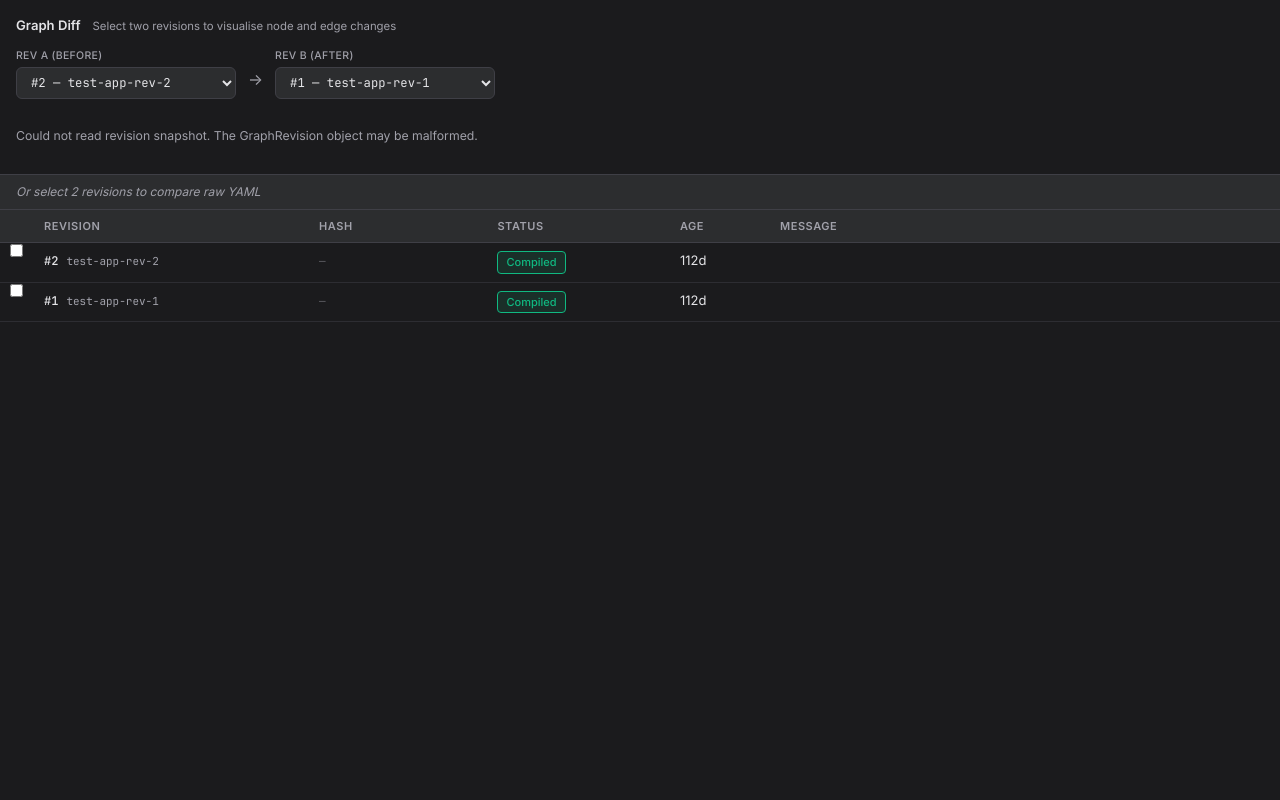
Test: RevisionYamlDiff navigate-by-change (spec issue-680) › O2+O3+O4: next click advances counter, prev retreats
expect the table with test id "revisions-table" is shown: met, box x1=0 y1=210 x2=1279 y2=322
Click the checkbox named "Select revision test-app-rev-2 for comparison": click(16, 251) x1=10 y1=244 x2=22 y2=257
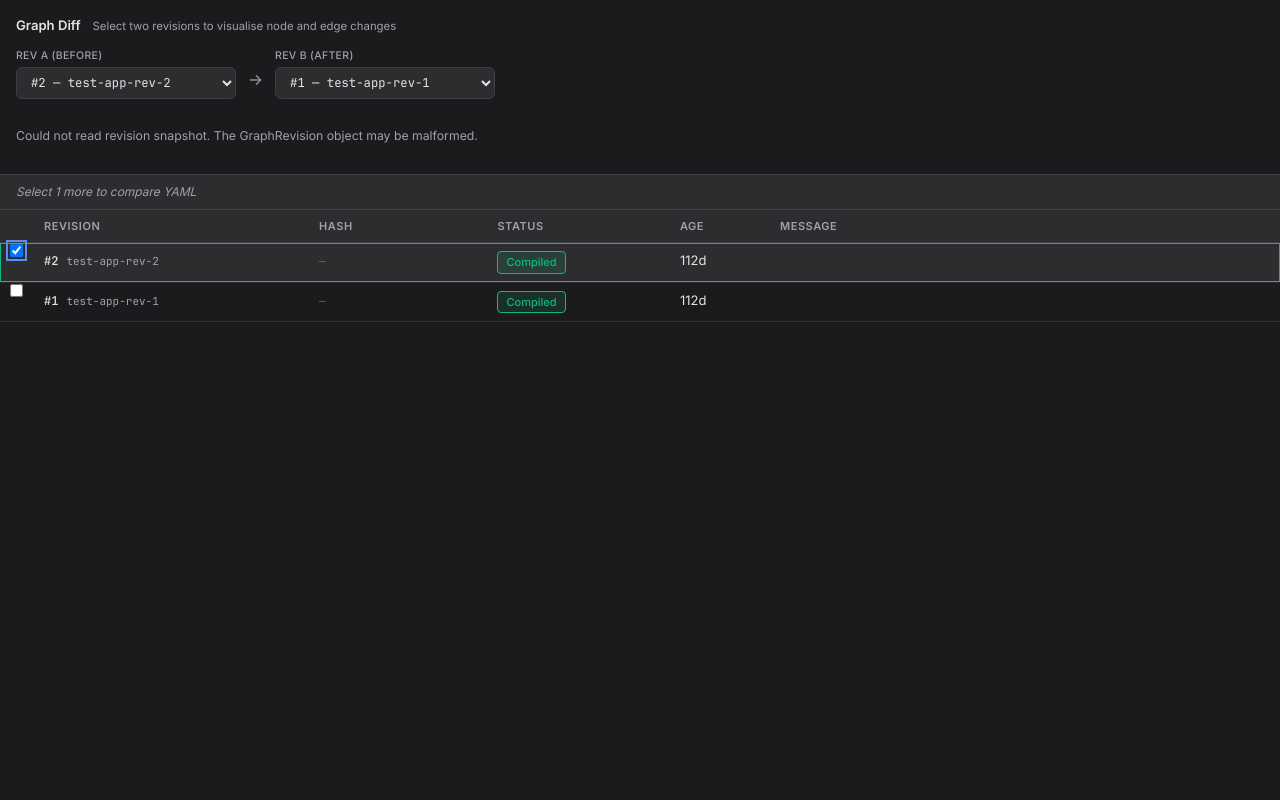
Click the checkbox named "Select revision test-app-rev-1 for comparison": click(16, 290) x1=10 y1=284 x2=22 y2=297
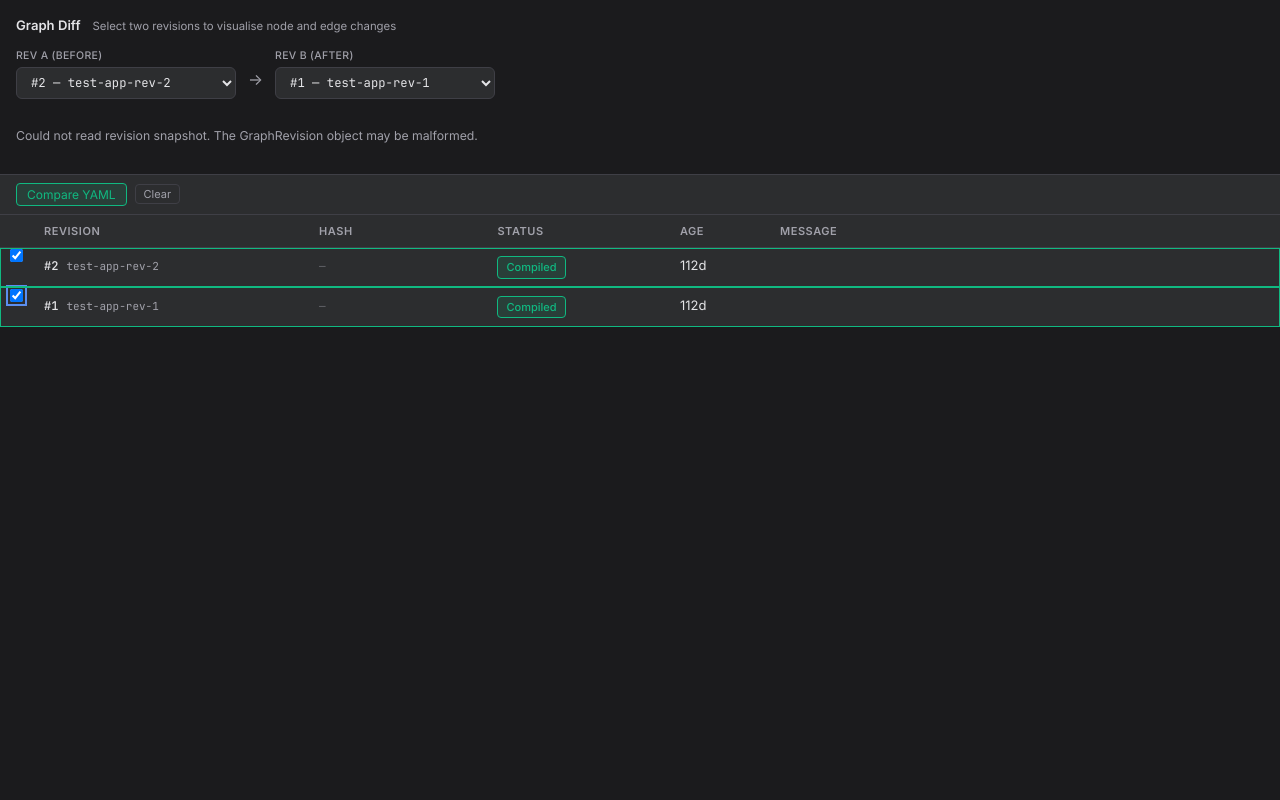
Click the button with test id "revisions-compare-btn": click(71, 194) x1=16 y1=183 x2=126 y2=206
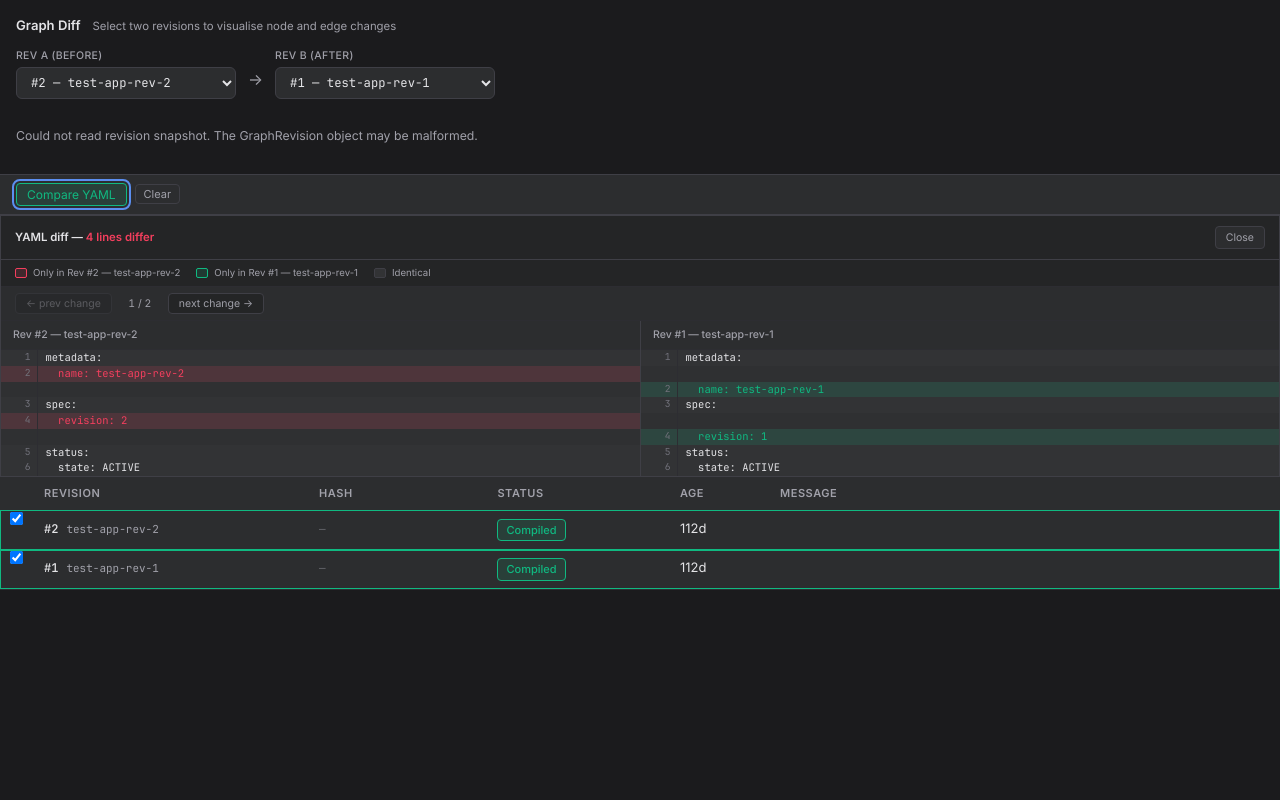
expect the element with test id "revisions-diff-panel" is shown: met, box x1=0 y1=215 x2=1279 y2=477
expect the element with test id "yaml-diff-nav" is shown: met, box x1=1 y1=287 x2=1279 y2=321
Click the button with test id "yaml-diff-nav-next": click(216, 304) x1=168 y1=293 x2=264 y2=314
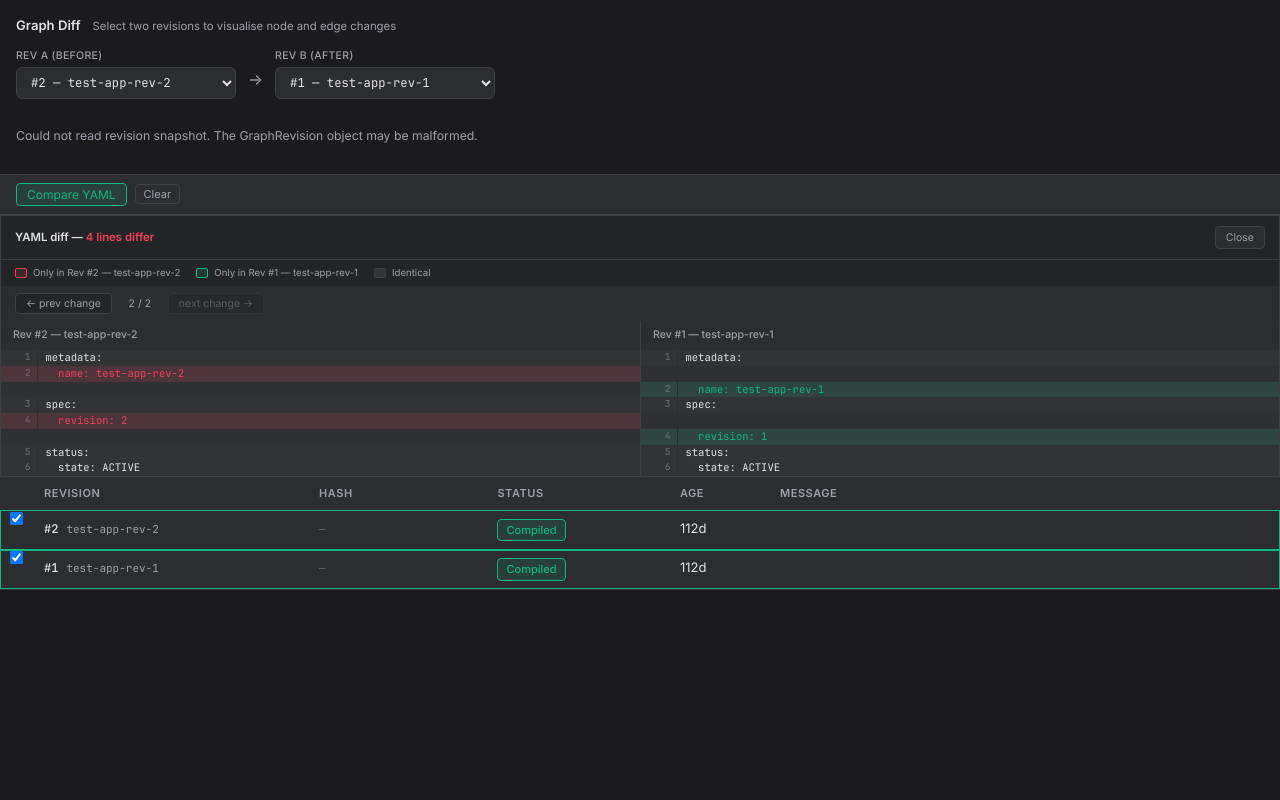
expect the text with test id "yaml-diff-nav-counter" reads "2 / 2": met, box x1=128 y1=297 x2=151 y2=310
Click the button with test id "yaml-diff-nav-prev": click(63, 304) x1=15 y1=293 x2=112 y2=314
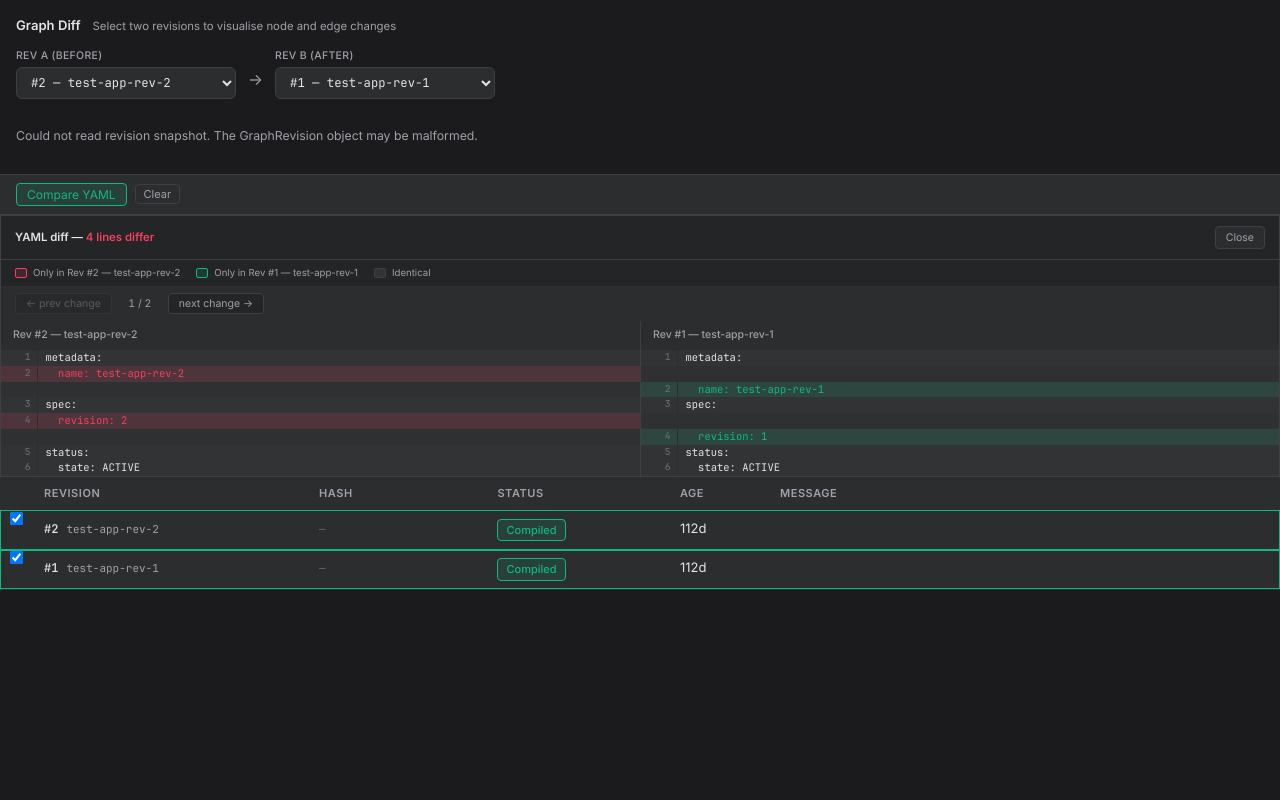
expect the text with test id "yaml-diff-nav-counter" reads "1 / 2": met, box x1=128 y1=297 x2=151 y2=310
